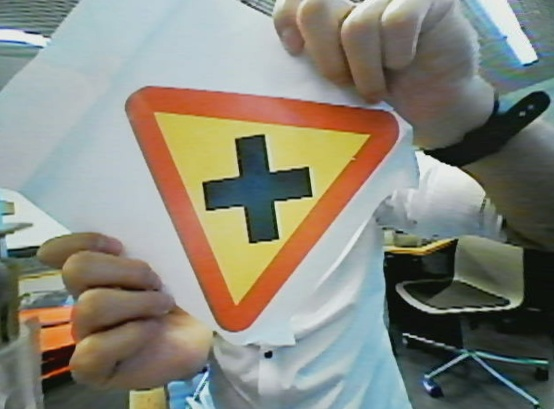junction: (113, 69, 420, 344)
